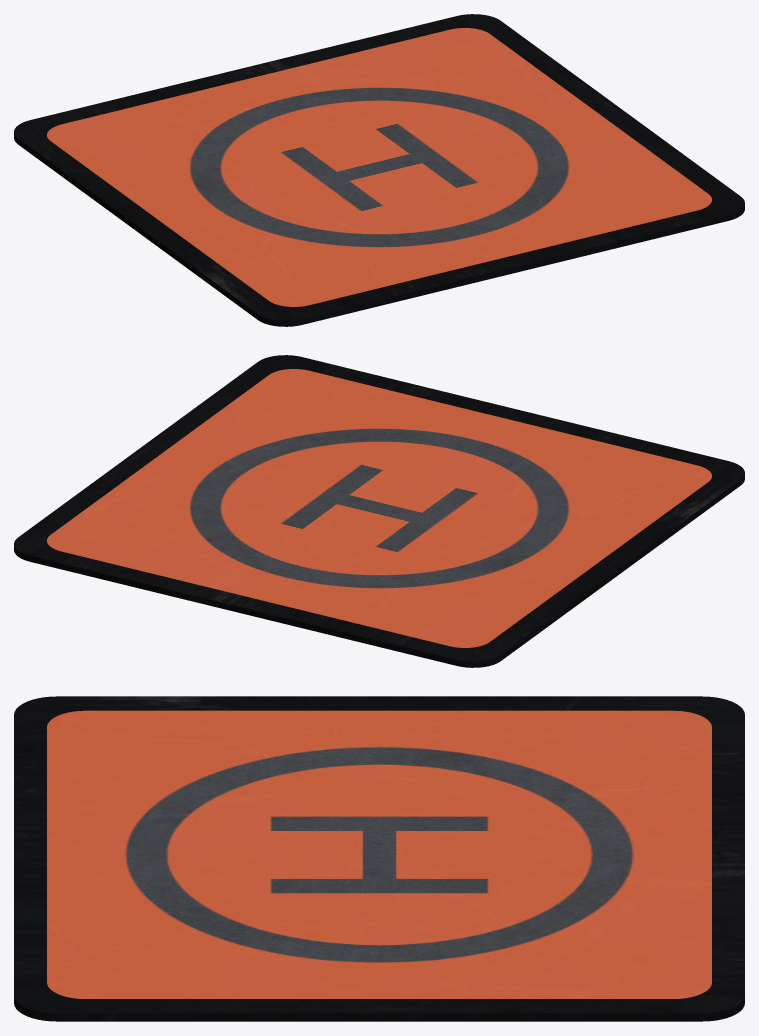
The model's file is e_color_DronePadForCar_orange.fbx.
3 views of the same model, one above another, from view 1: azimuth 30°, elevation 25°; view 2: azimuth 150°, elevation 25°; view 3: azimuth 270°, elevation 25° (orthographic). The views are drawn at different scales.
Parts seen in each view (by area): view 1: DronePadForCar_blue; view 2: DronePadForCar_blue; view 3: DronePadForCar_blue.
Boxes of the visible parts, x1,y1,x2,y2 form: DronePadForCar_blue: [14, 14, 744, 326]; DronePadForCar_blue: [14, 355, 744, 667]; DronePadForCar_blue: [14, 696, 744, 1021].
Size of the model in its own units: 151 by 1.81 by 147.
